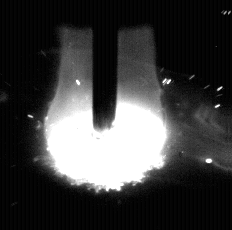arame: (93, 0, 118, 132)
poca: (45, 0, 168, 230)
